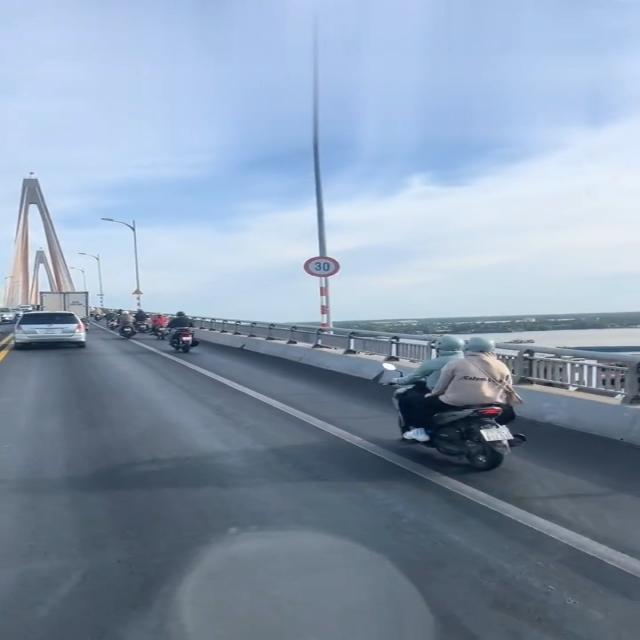127-toc-do-toi-da-30: (302, 256, 340, 277)
